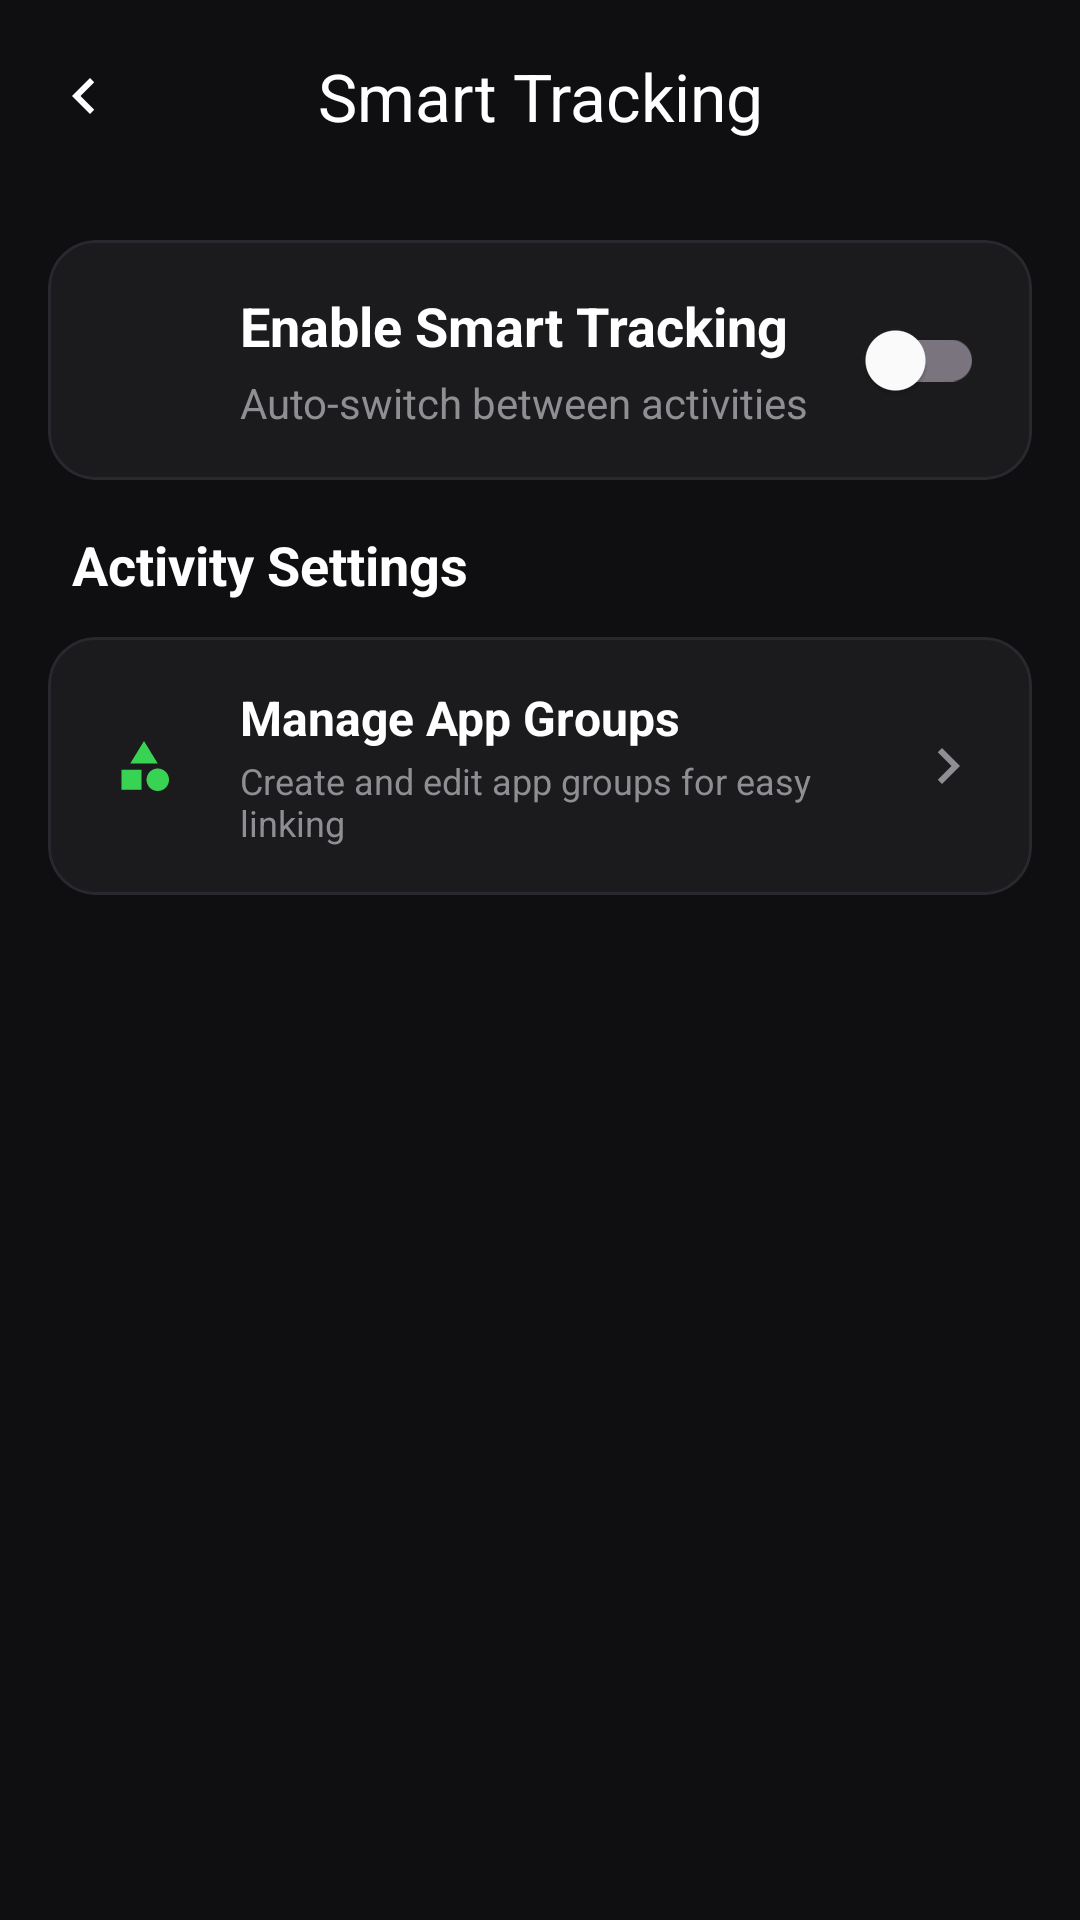

Named icons in this screenshot (1080 x 1920) and their centers, point (x, y):
category: point (145, 766)
